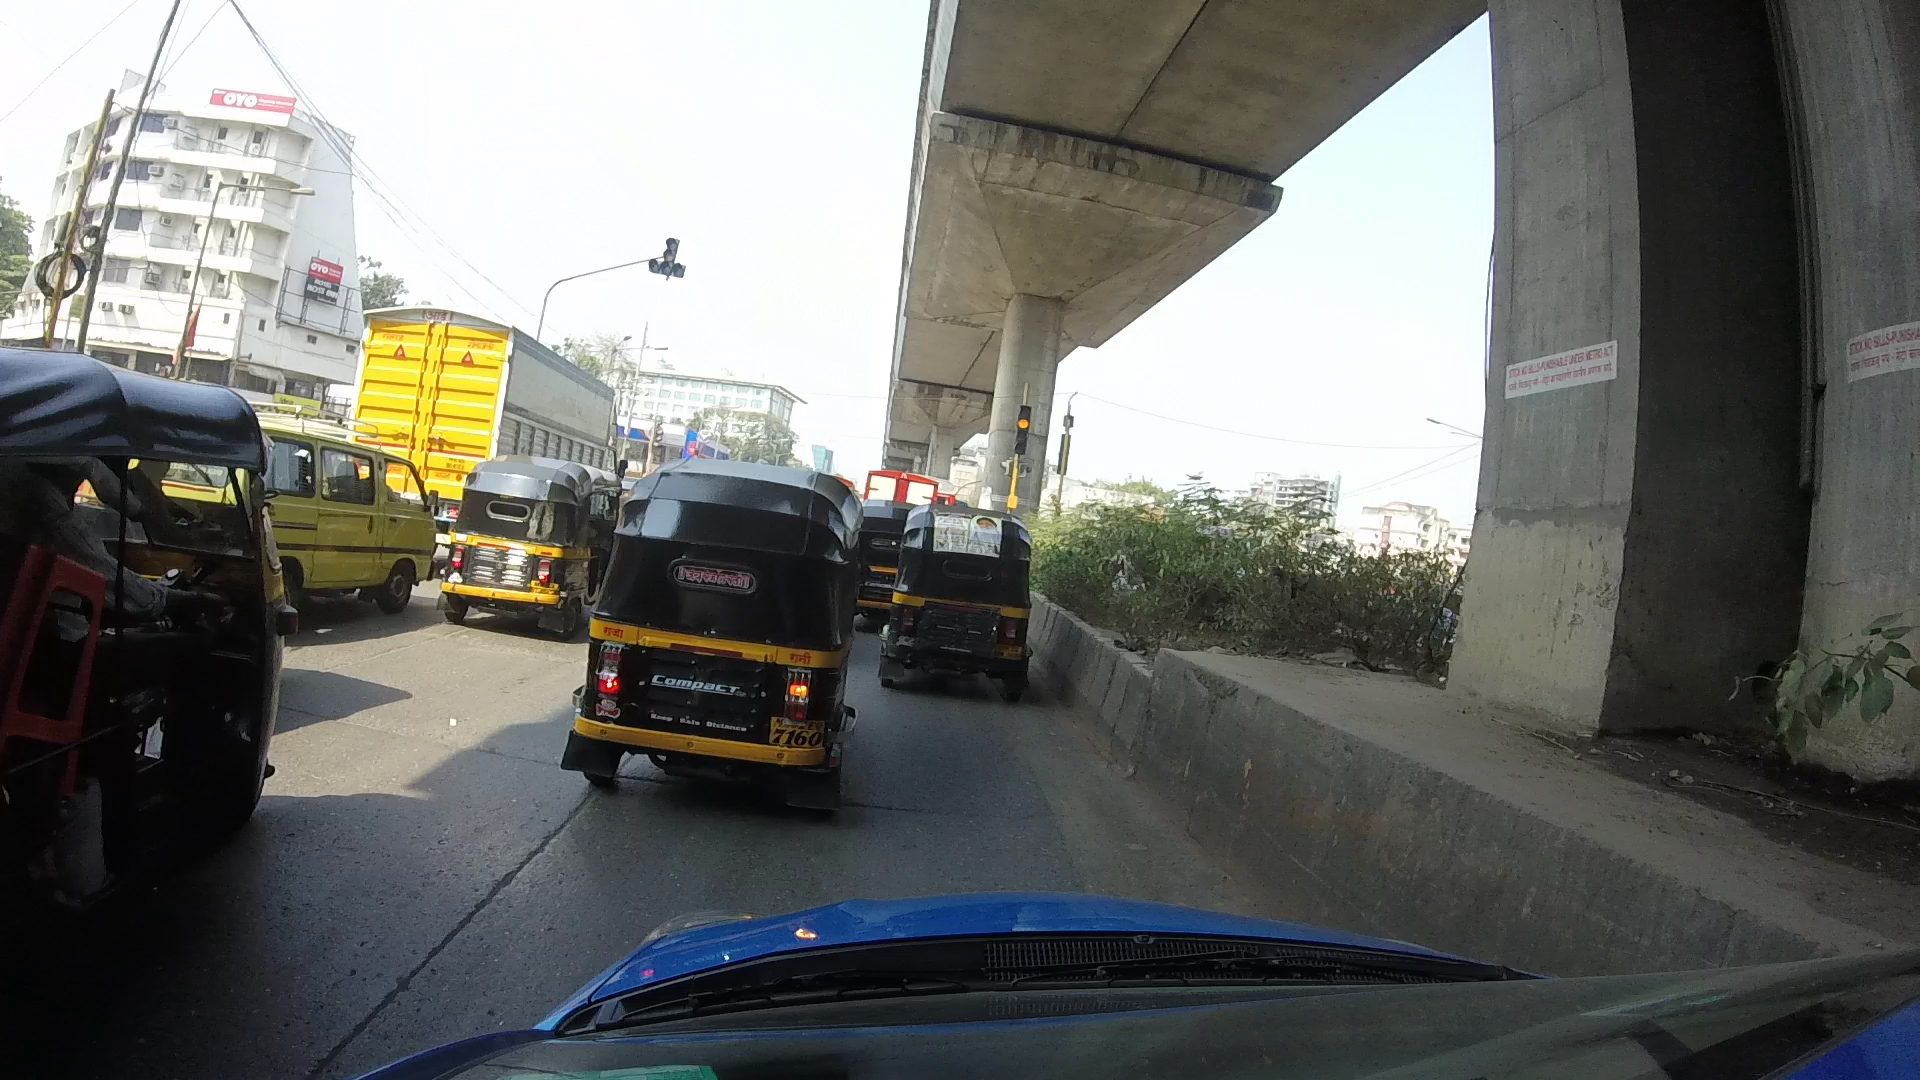rickshaw: (11, 345, 284, 880), (575, 456, 849, 779), (446, 454, 613, 618), (887, 502, 1025, 688)
truck: (345, 295, 618, 520)
